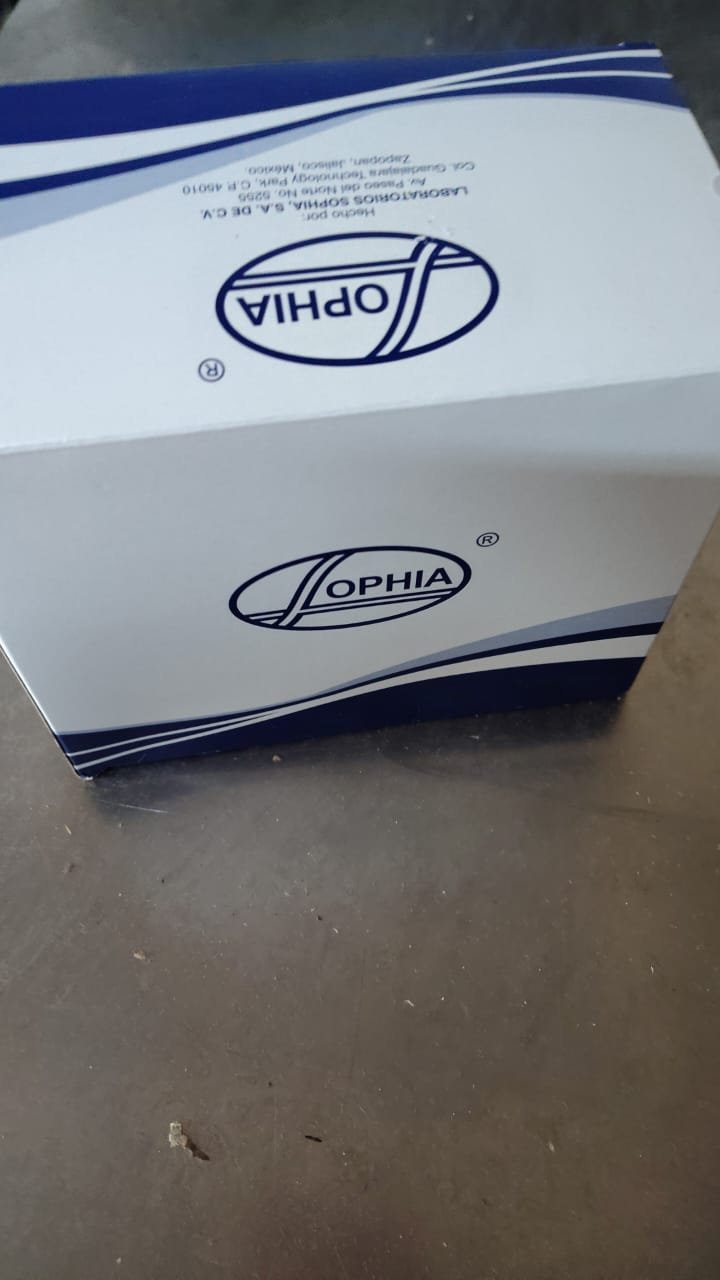Carton: (2, 50, 720, 785)
